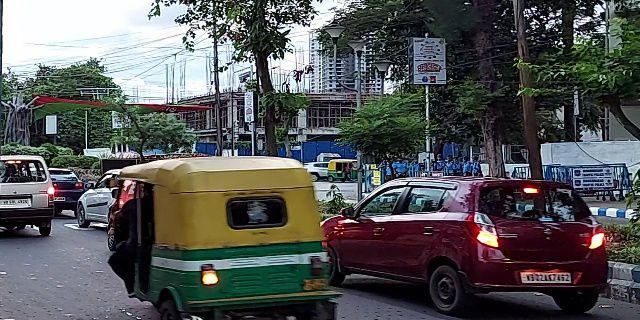Autorickshaw: (110, 153, 342, 319)
Car: (324, 175, 616, 313), (2, 151, 54, 239)
